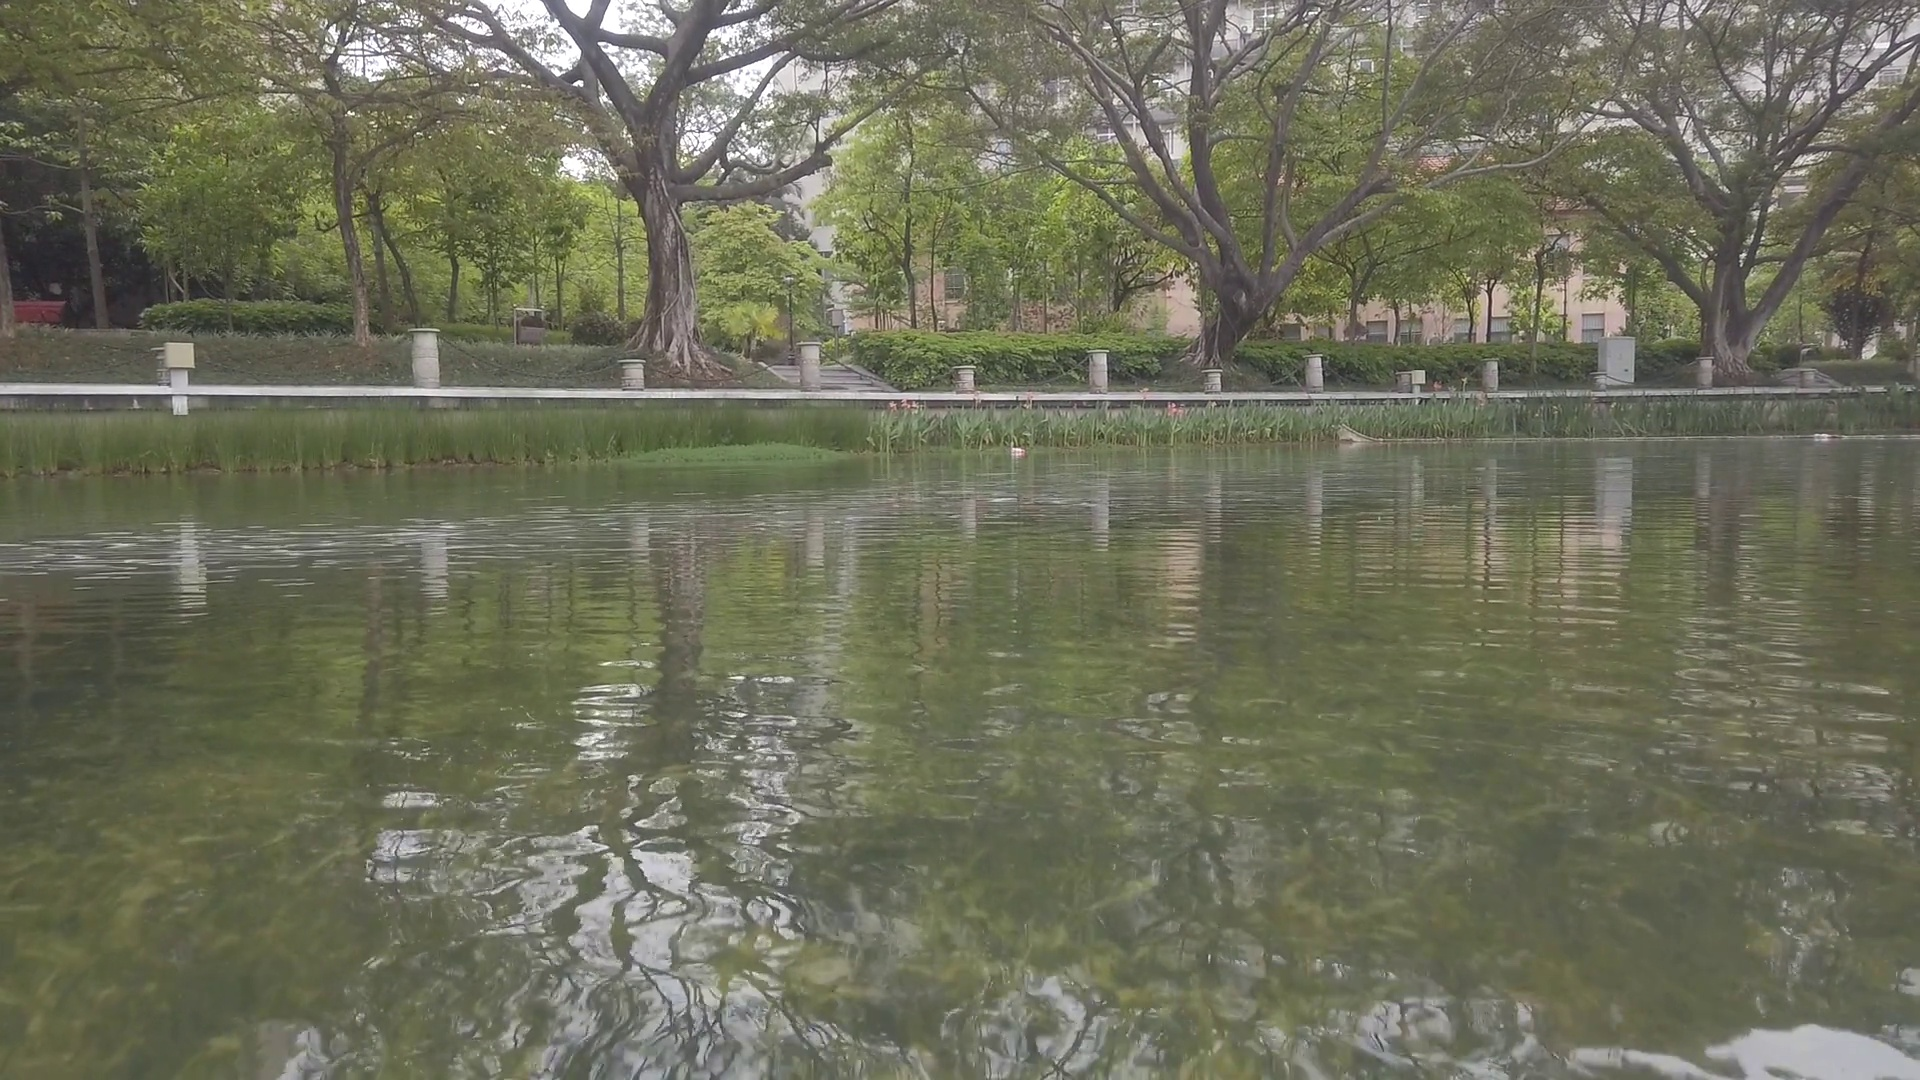bottle: (1010, 444, 1027, 455), (1815, 433, 1834, 440)
